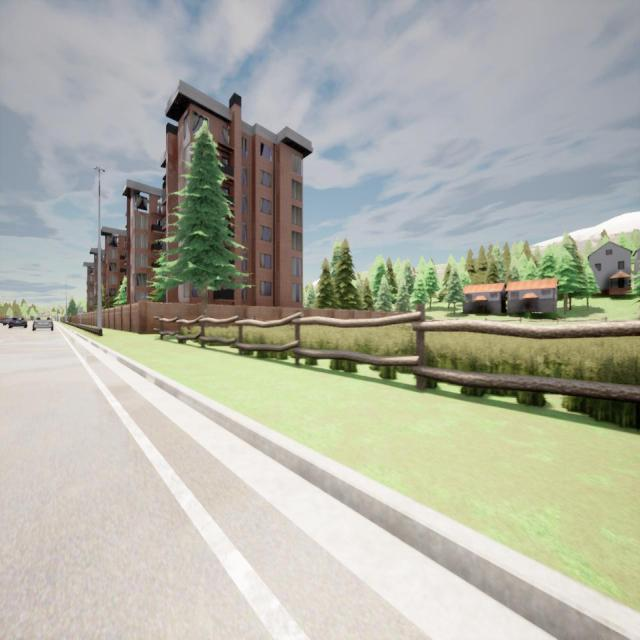Vehicle: (32, 315, 54, 331), (8, 316, 28, 329), (3, 318, 9, 326)
